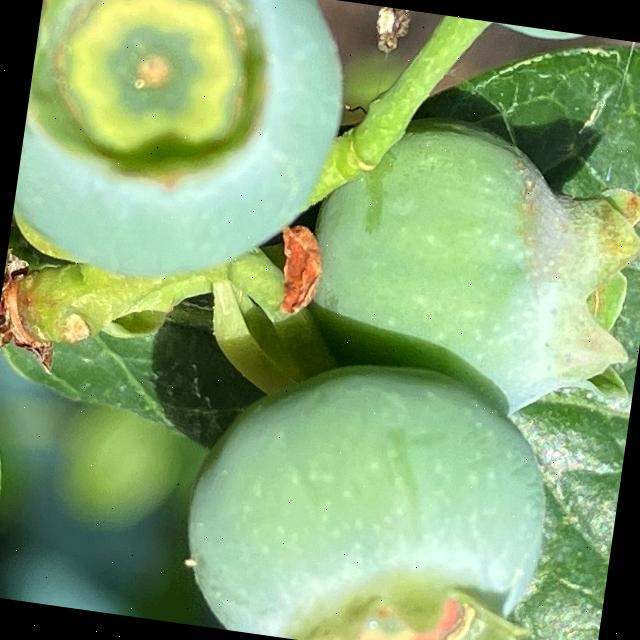Blueberries: (172, 337, 583, 640), (5, 0, 360, 304)
